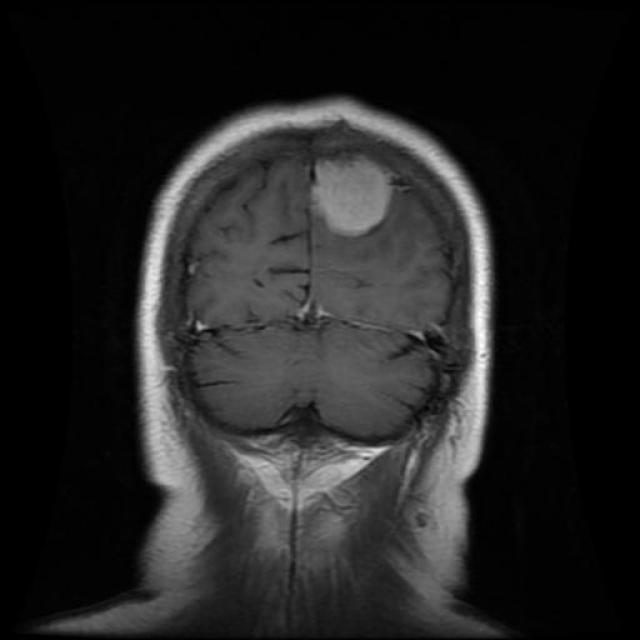meningioma: (314, 154, 396, 238)
